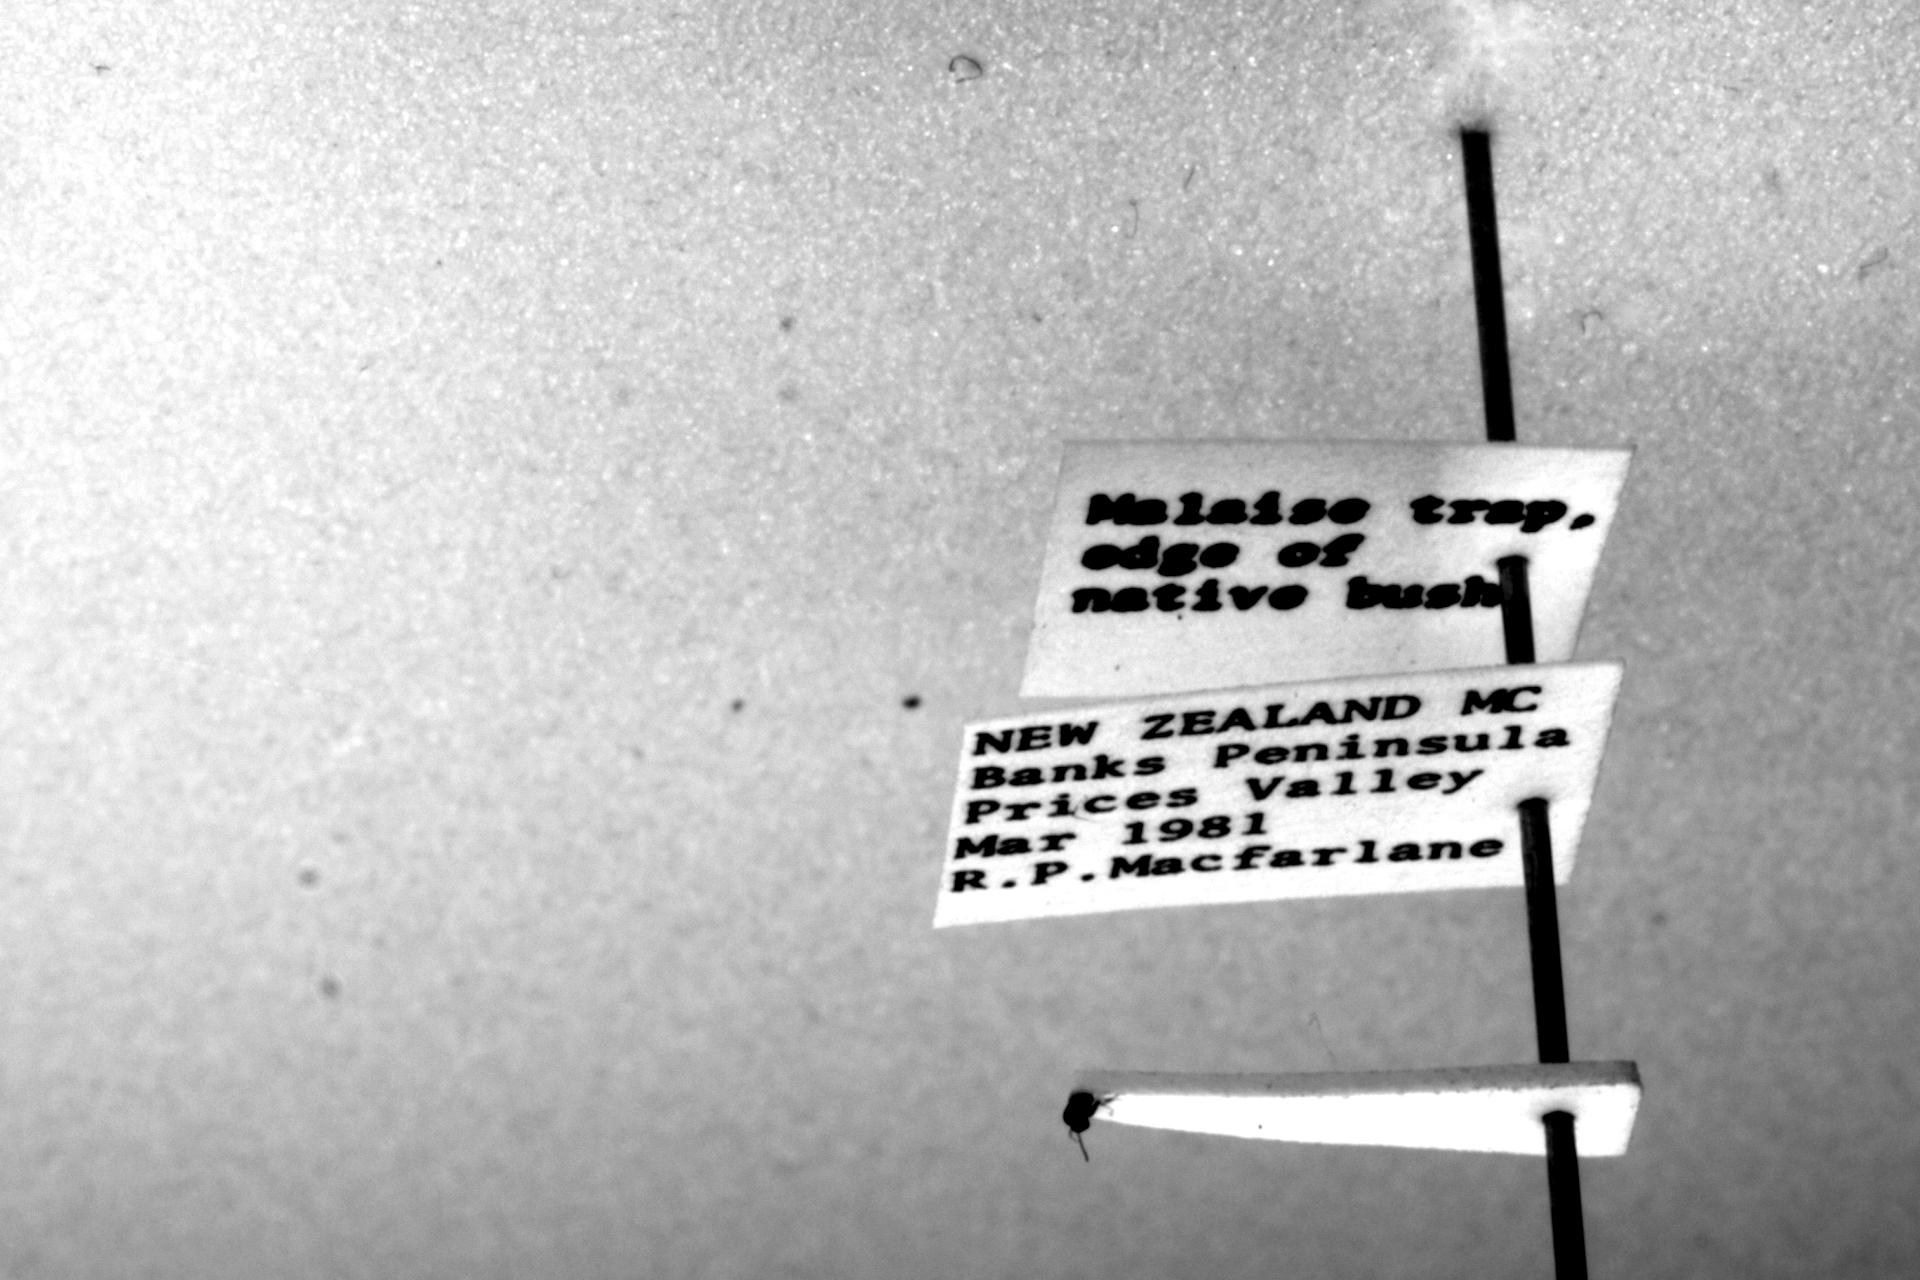typed_label: (934, 664, 1624, 926), (1020, 439, 1631, 697)
